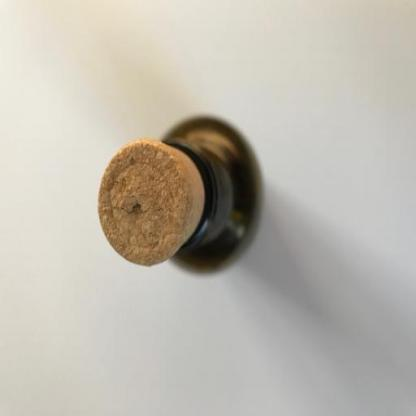trash: (96, 110, 266, 278)
